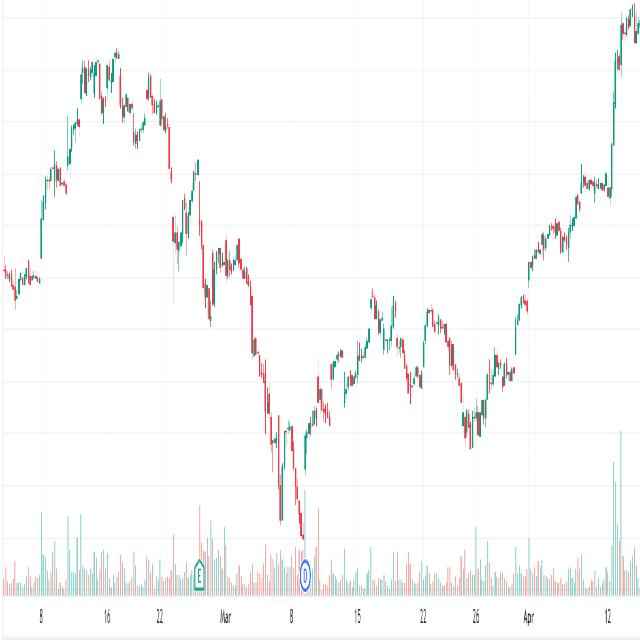Double-Bottom: (400, 339, 430, 407)
